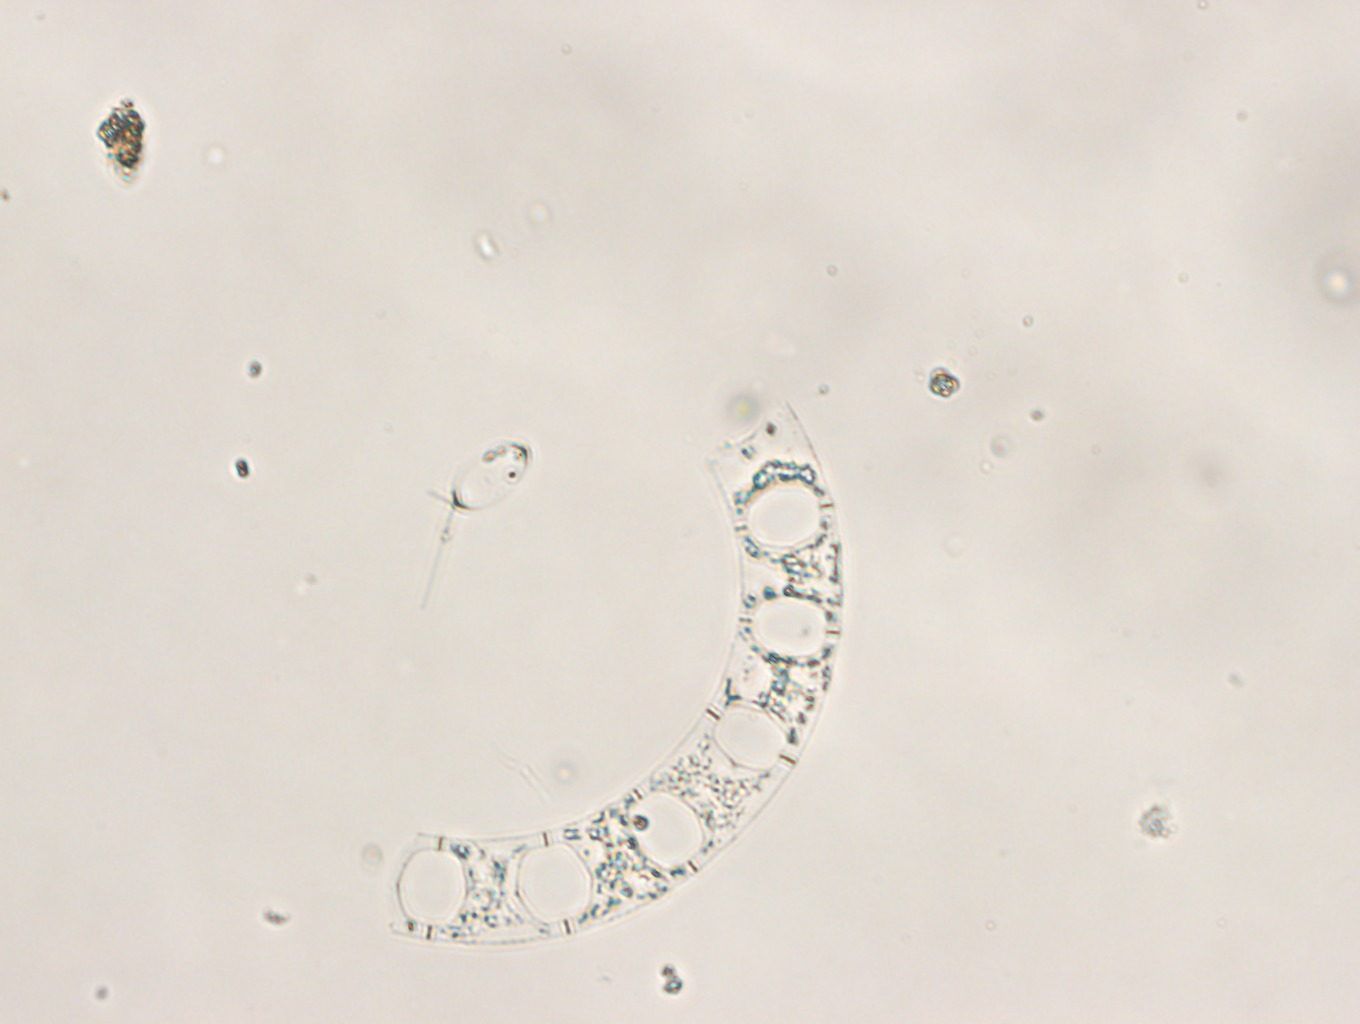chaetoceros: (418, 442, 579, 605)
eucampia: (388, 403, 846, 948)
